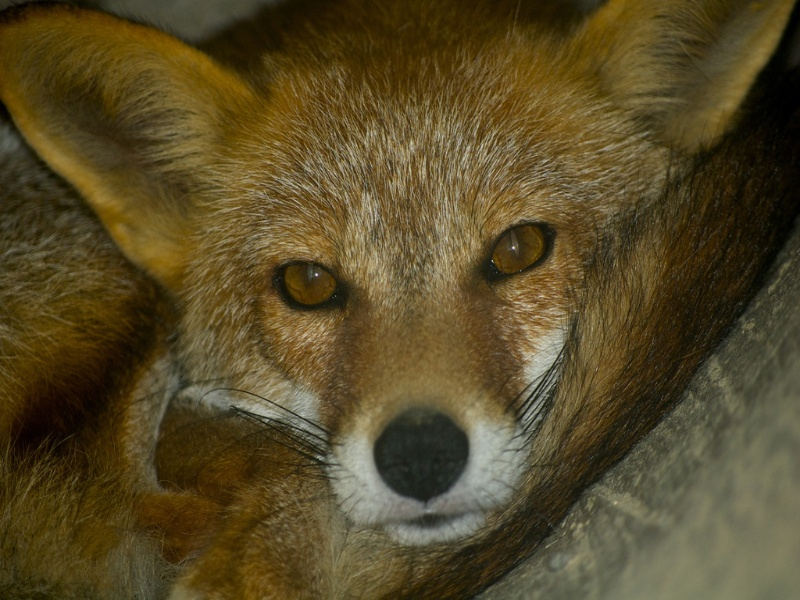fox: (10, 5, 786, 600)
